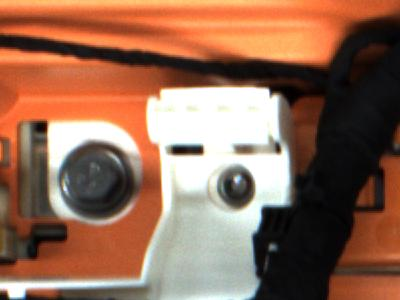nut_b: (56, 138, 140, 220)
